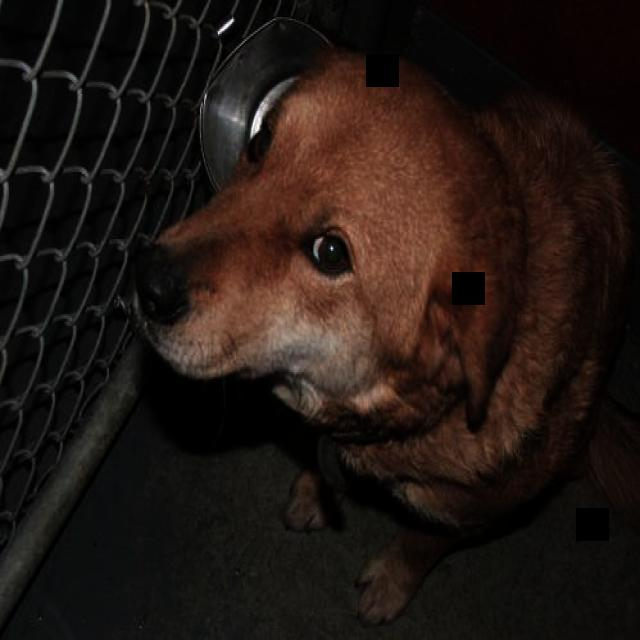adult_dog: (122, 49, 639, 634)
